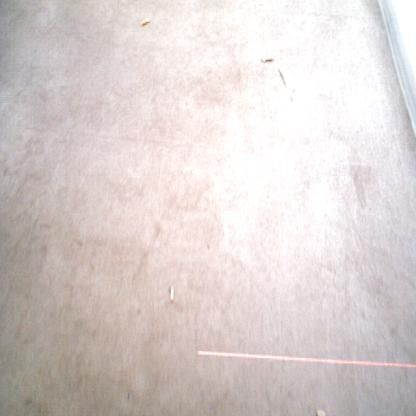dirty: (168, 284, 175, 302), (260, 56, 274, 63), (316, 408, 327, 416), (140, 18, 151, 26)
mark: (131, 222, 160, 282), (350, 164, 373, 210), (23, 396, 45, 414), (72, 236, 84, 249), (277, 68, 285, 83), (288, 88, 296, 103), (40, 242, 48, 257), (88, 261, 96, 273), (39, 223, 52, 230), (360, 307, 366, 320), (403, 369, 408, 381), (205, 242, 211, 251), (126, 390, 130, 403), (108, 203, 113, 212), (137, 307, 141, 315)
